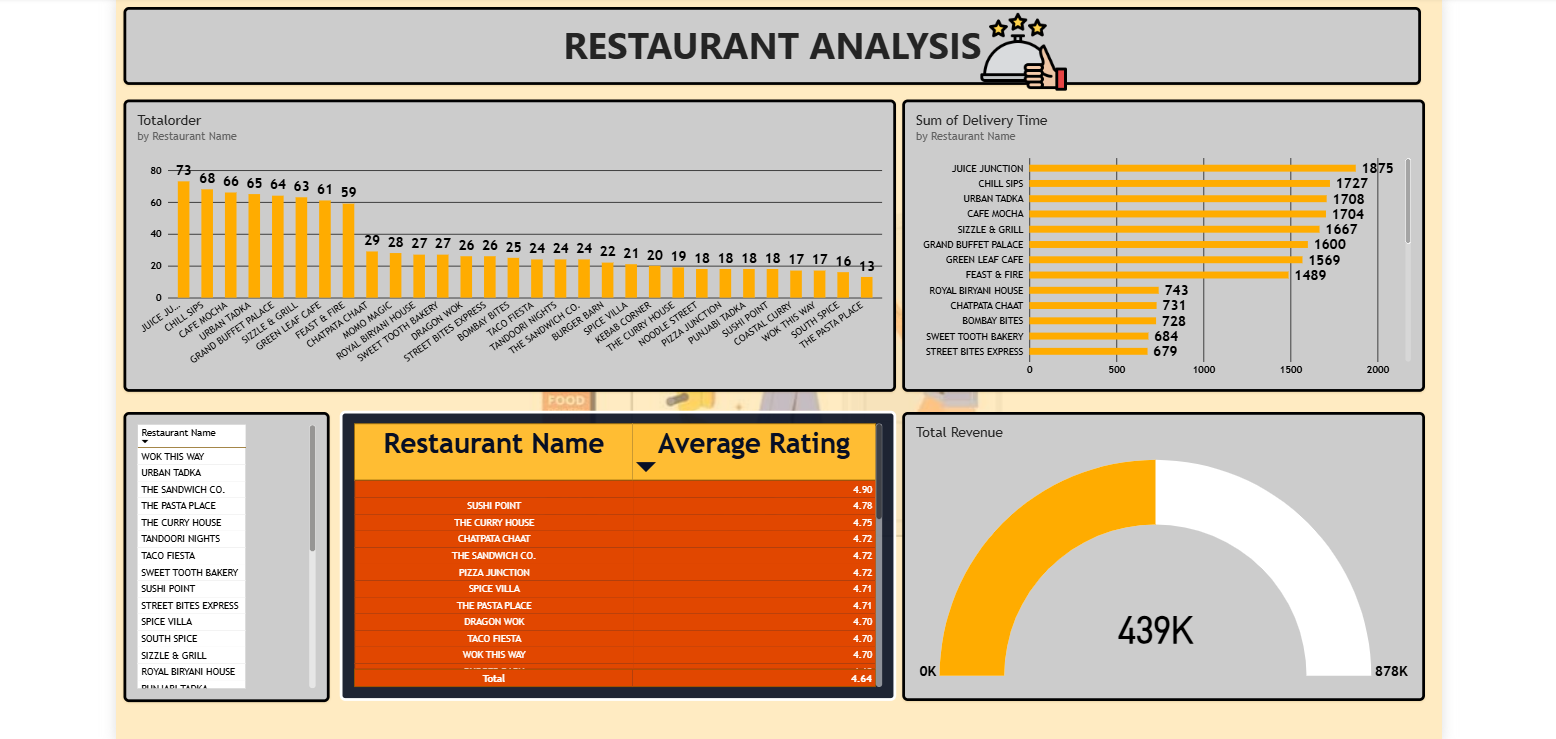

The page's visual inventory and layout, read from the dashboard file:
{"tool":"powerbi","page":{"name":"Restaurant Analysis","canvas":[1920,1080],"ordinal":2},"visuals":[{"type":"textbox","box":[10.4,14.6,1878.5,112.6],"z":0},{"type":"columnChart","fields":{"Category":["Order Table.Restaurant Name"],"Y":["Delivery Table.Totalorder"]},"box":[10.9,148.2,1118.3,422.9],"z":1000},{"type":"tableEx","fields":{"Values":["Order Table.Restaurant Name"]},"box":[10,600,298,420],"z":2000},{"type":"gauge","fields":{"Y":["Delivery Table.Total Revenue"]},"box":[1138.3,600.8,756.4,418],"z":3000},{"type":"tableEx","fields":{"Values":["Order Table.Restaurant Name","Delivery Table.Average Rating"]},"box":[323.9,599,805.3,419.8],"z":4000},{"type":"barChart","fields":{"Category":["Order Table.Restaurant Name"],"Y":["Sum(Delivery Table.Delivery Time)"]},"box":[1138.3,148.4,756.4,423.5],"z":5000},{"type":"image","box":[1173.8,14.6,279.4,133.4],"z":6000}]}

Visuals, with their boxes on the page's 1920x1080 design canvas (x1, y1, x2, y2). These are canvas units, not pixel positions in the 1556x739 screenshot, which may show the page scaled, cropped or inside an application window:
textbox: detection(10, 15, 1889, 127)
columnChart - Order Table.Restaurant Name x Delivery Table.Totalorder: detection(11, 148, 1129, 571)
tableEx - Order Table.Restaurant Name: detection(10, 600, 308, 1020)
gauge - Delivery Table.Total Revenue: detection(1138, 601, 1895, 1019)
tableEx - Order Table.Restaurant Name x Delivery Table.Average Rating: detection(324, 599, 1129, 1019)
barChart - Order Table.Restaurant Name x Sum(Delivery Table.Delivery Time): detection(1138, 148, 1895, 572)
image: detection(1174, 15, 1453, 148)
